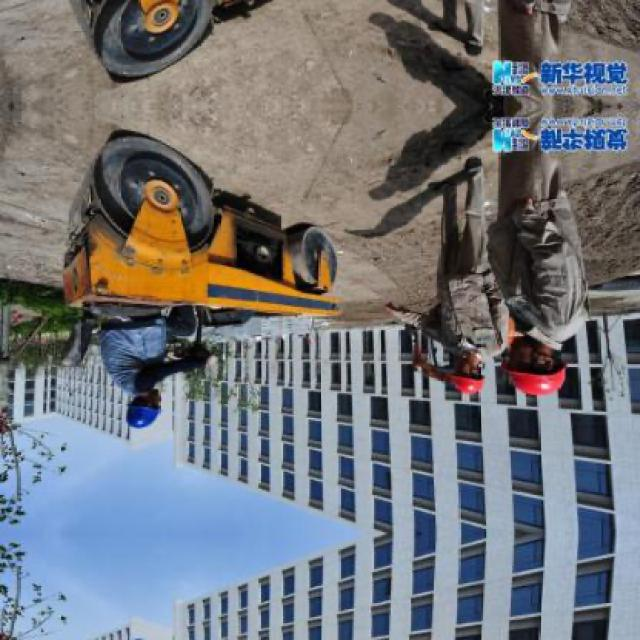con casco: (518, 329, 574, 412), (128, 374, 190, 444), (428, 357, 497, 402)
